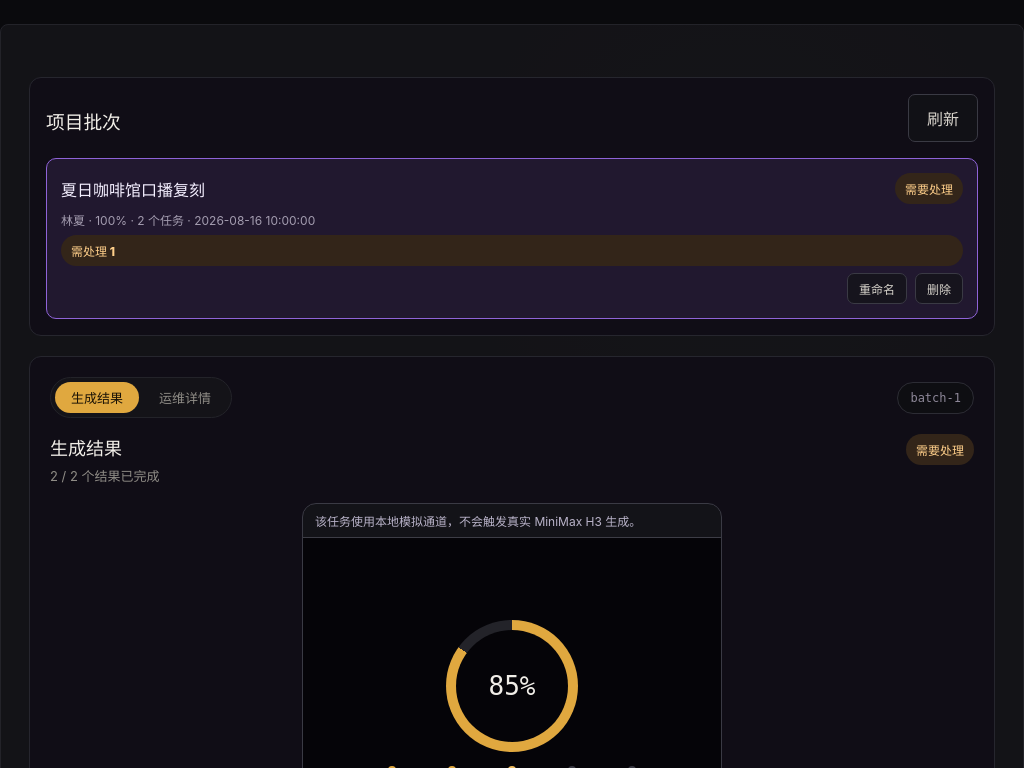
Test: TaskRecordsPanel › does not describe pending quality checks as passed
Click the button "运维详情".
click(185, 398)  # box [143, 382, 227, 413]
(page scrolled)
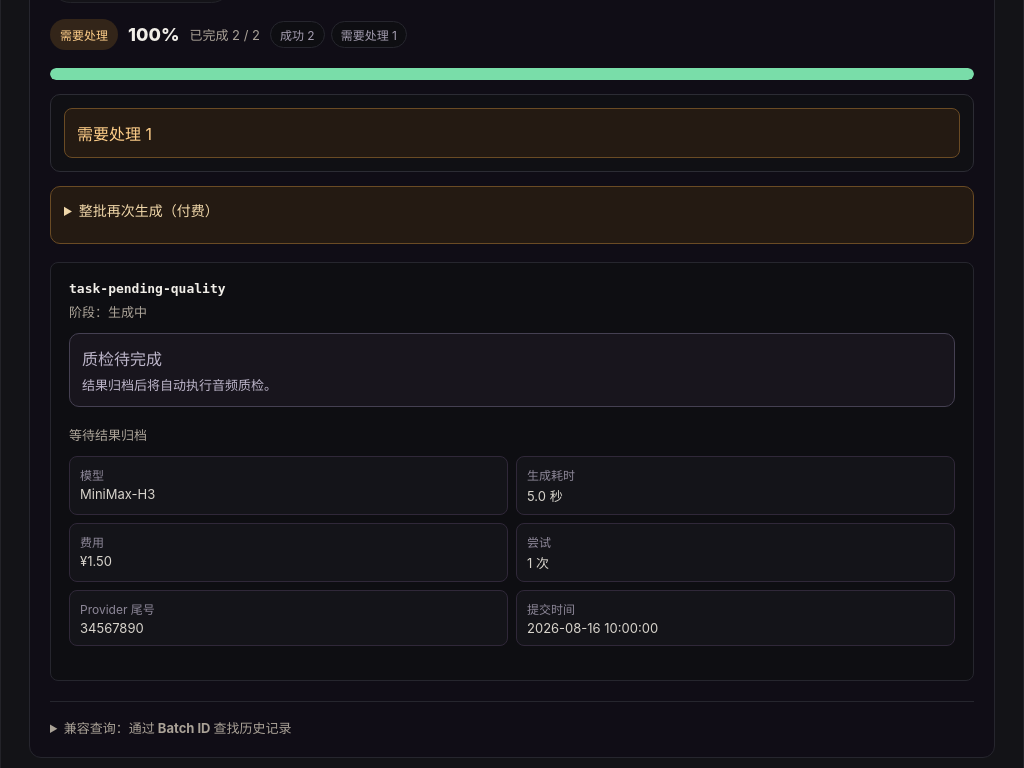
Expected: the text "质检待完成" is shown, [82, 349, 162, 369]
Now the text "结果归档后将自动执行音频质检。" is shown, box [82, 377, 277, 393]
